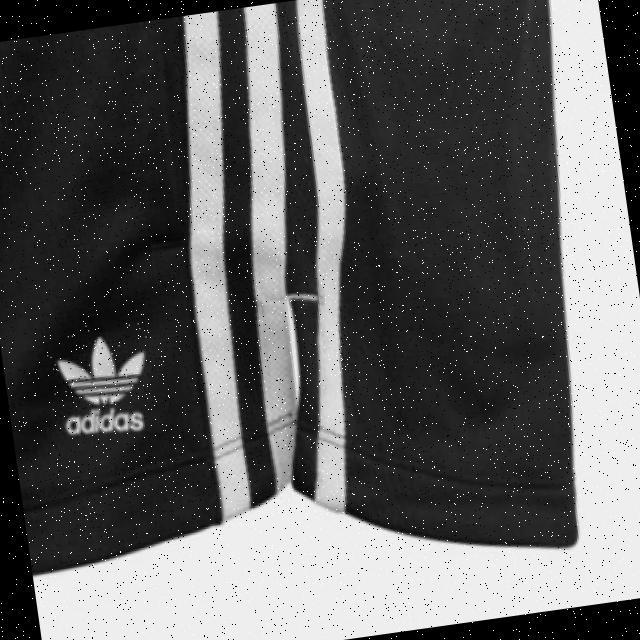Adidas: (42, 314, 159, 416)
